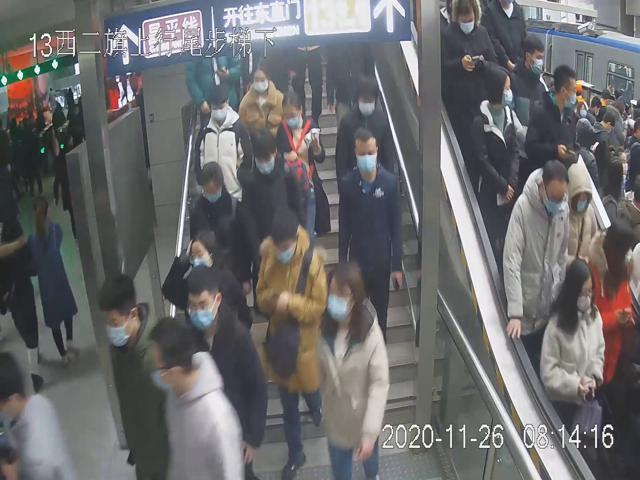person: (253, 207, 329, 476), (184, 267, 267, 479), (315, 258, 390, 480), (235, 127, 308, 346), (337, 126, 404, 360), (96, 272, 166, 476), (501, 156, 569, 349), (332, 76, 401, 252), (161, 231, 254, 354), (540, 256, 605, 431), (585, 216, 635, 411), (467, 66, 520, 244), (274, 85, 331, 239), (193, 81, 254, 206), (524, 63, 576, 192), (441, 1, 496, 108), (237, 53, 285, 152)
